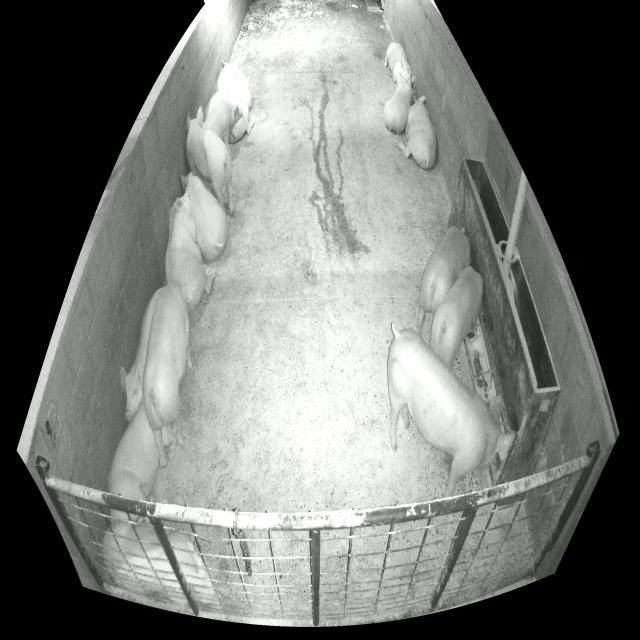pig: (388, 323, 516, 497), (103, 519, 215, 609), (143, 283, 193, 467), (120, 286, 165, 421), (418, 226, 470, 332), (430, 266, 483, 368), (108, 394, 158, 500), (187, 107, 235, 216), (165, 189, 207, 311), (179, 163, 228, 260), (216, 59, 254, 143), (397, 95, 436, 169), (203, 89, 243, 150), (384, 72, 414, 133), (384, 42, 411, 86), (204, 91, 227, 121)
